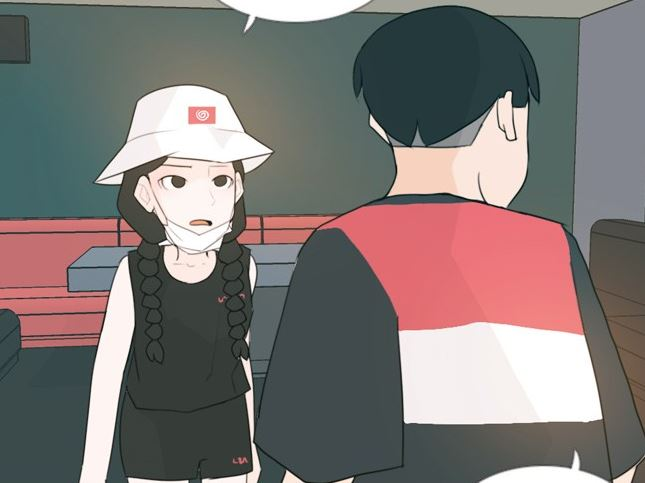hat: (95, 82, 272, 174)
